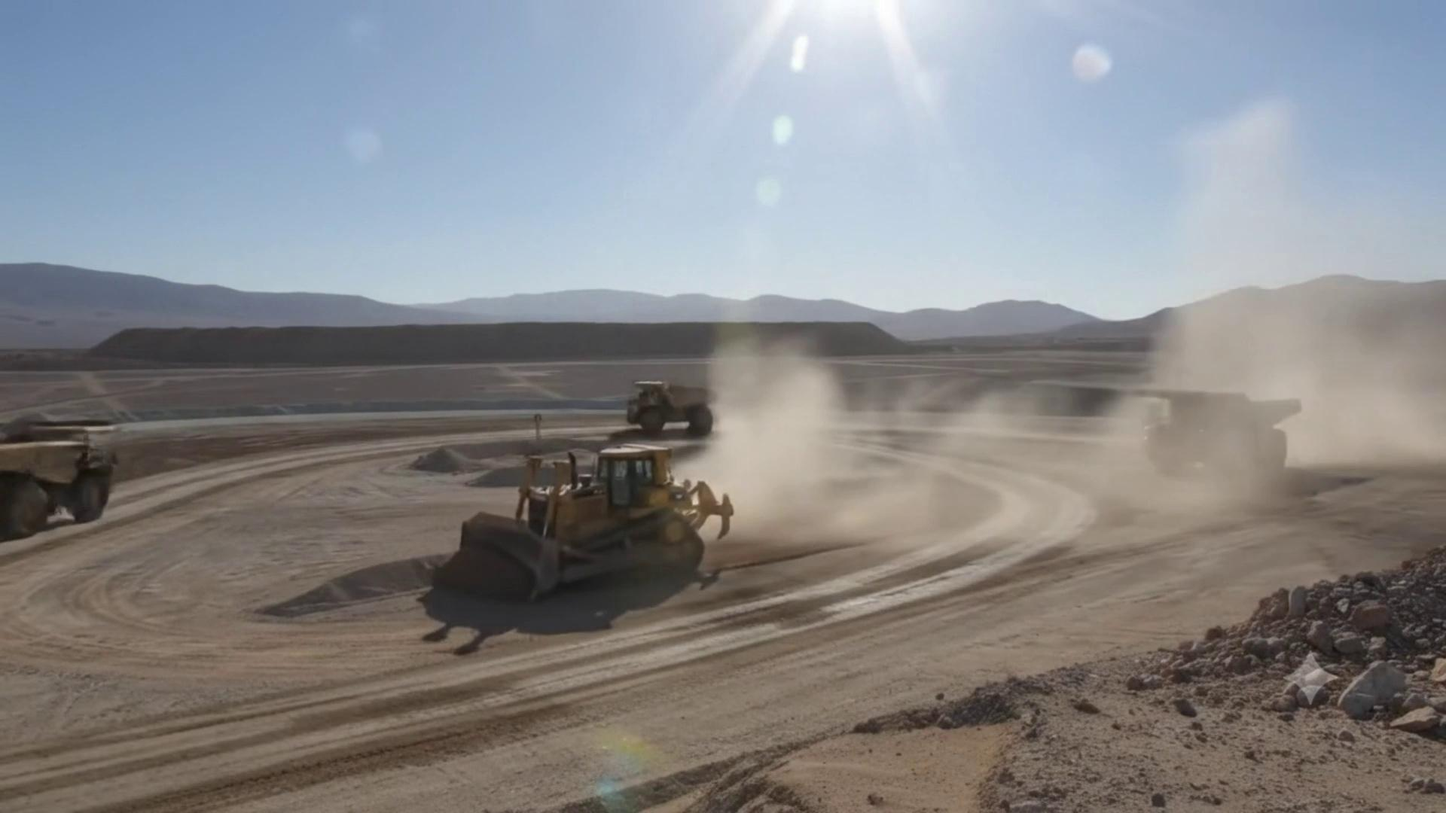CAEX: (1135, 388, 1301, 475), (0, 427, 117, 540), (626, 382, 715, 438)
bulldozer: (434, 444, 733, 600)
